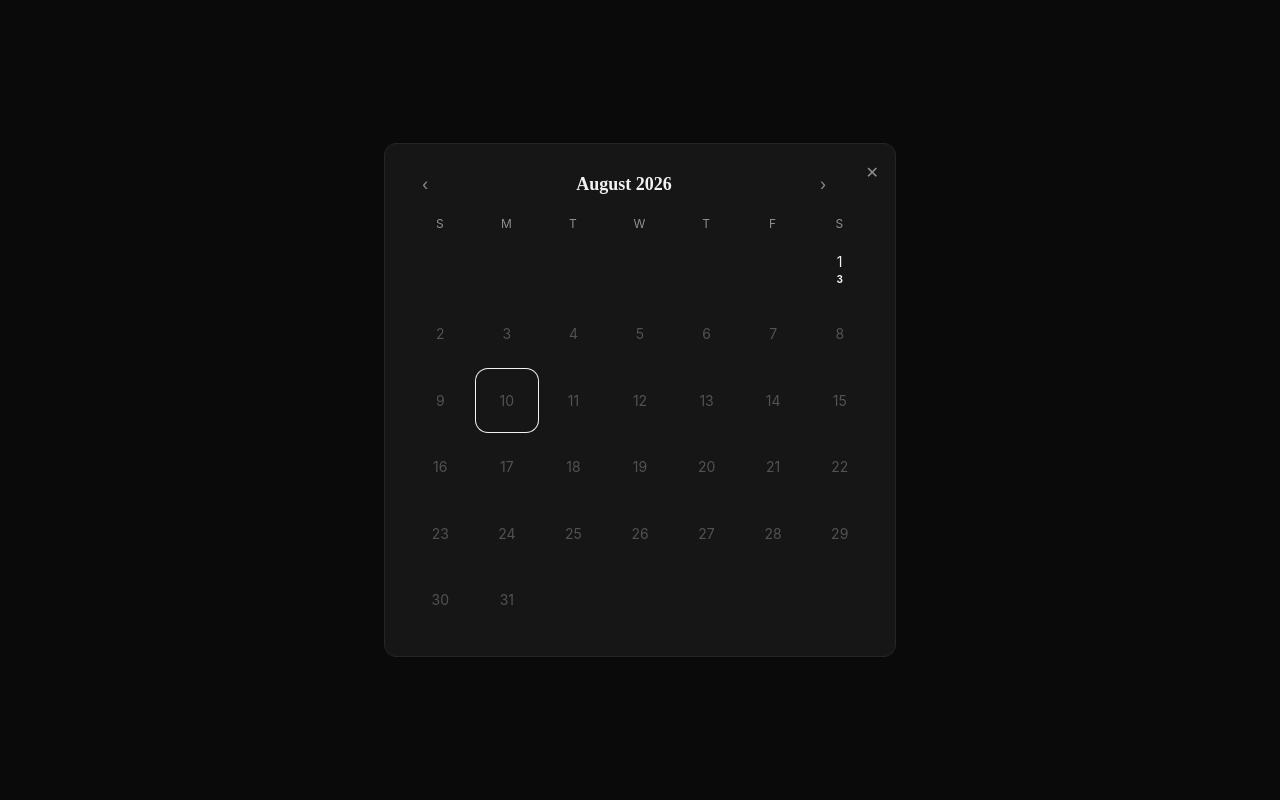
Test: CalendarModal › filters the day by sector, then by company, mutually exclusively
Click the button "1 3": (840, 268) [808,236,871,299]
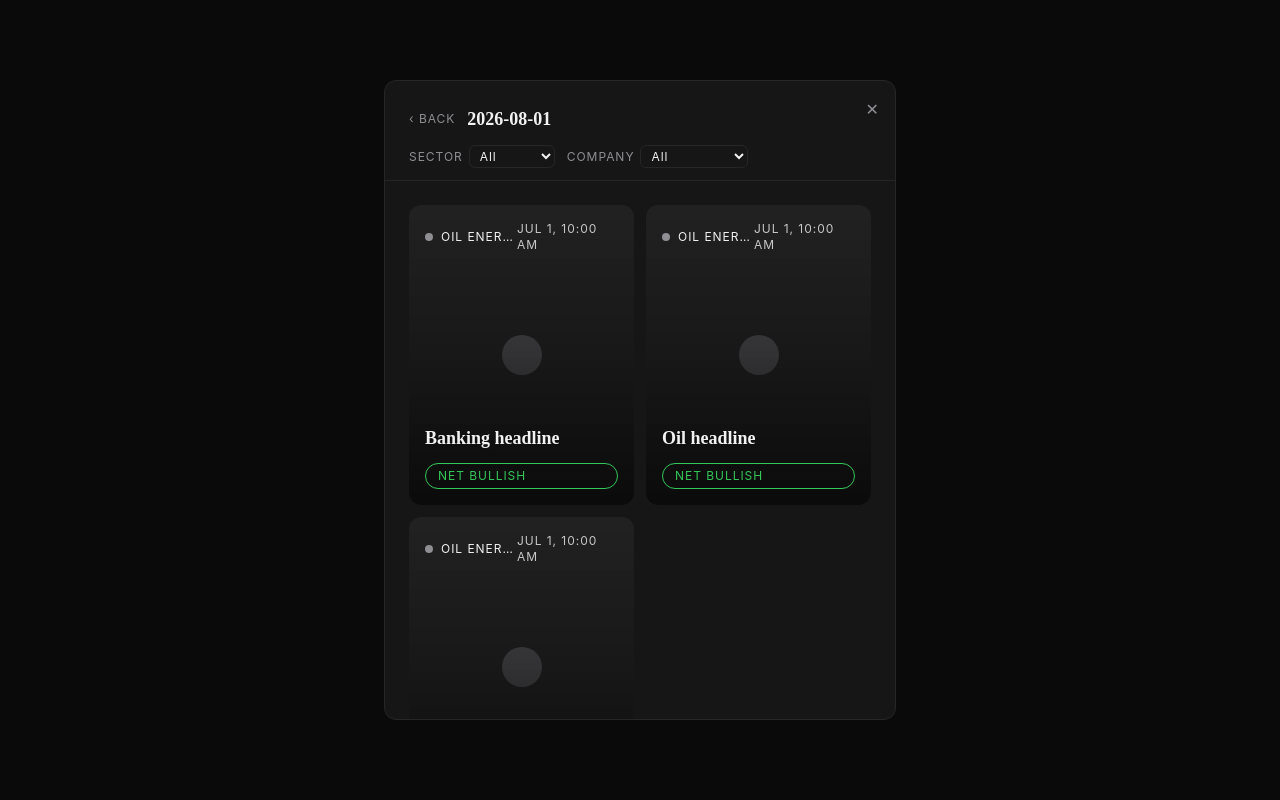
Result: the heading "Banking headline" is shown at [425,428,560,448]
Result: the heading "Oil headline" is shown at [662,428,756,448]
Select "banking" in the dropdown labelled "Sector": (512, 156) [469,145,555,168]
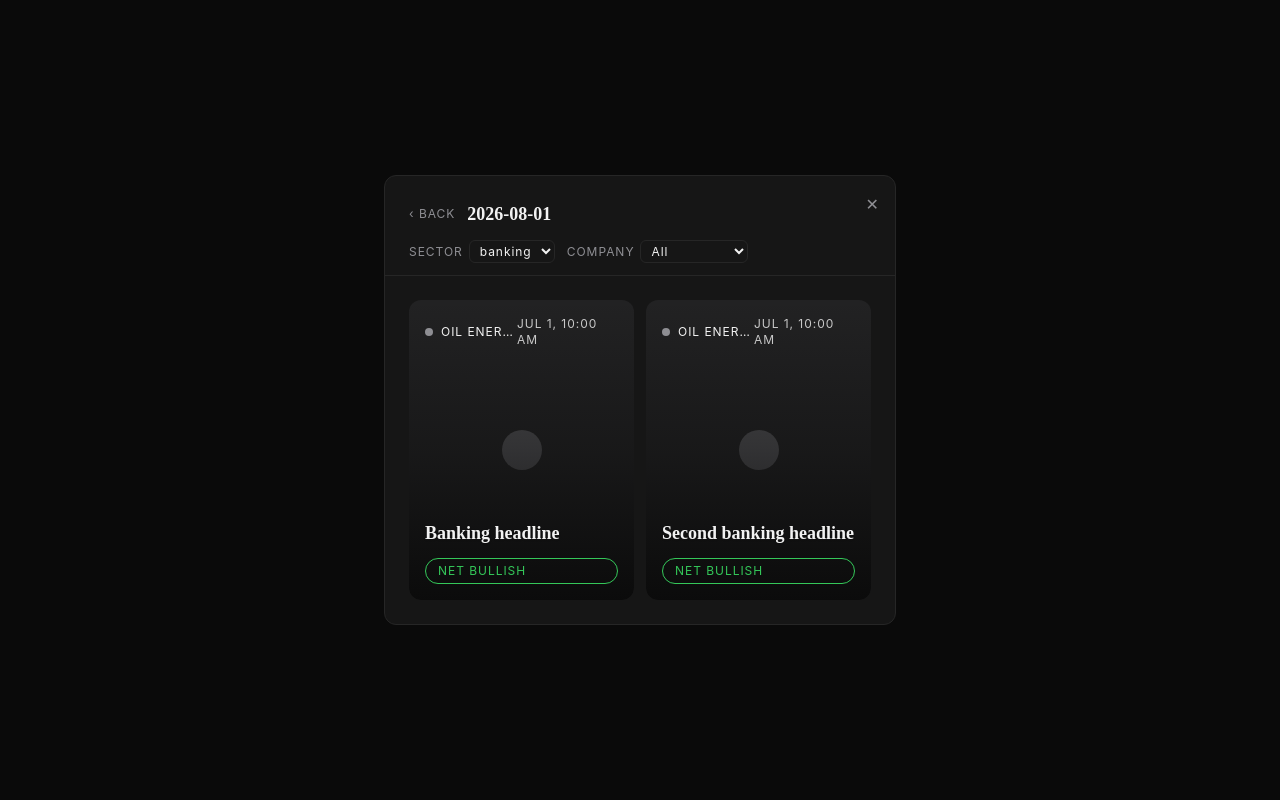
Result: the heading "Banking headline" is shown at [425,523,560,543]
Result: the heading "Second banking headline" is shown at [662,521,855,546]
Result: the button "Oil headline" is gone
Select "Reliance" in the dropdown labelled "Company": (694, 252) [640,240,748,263]
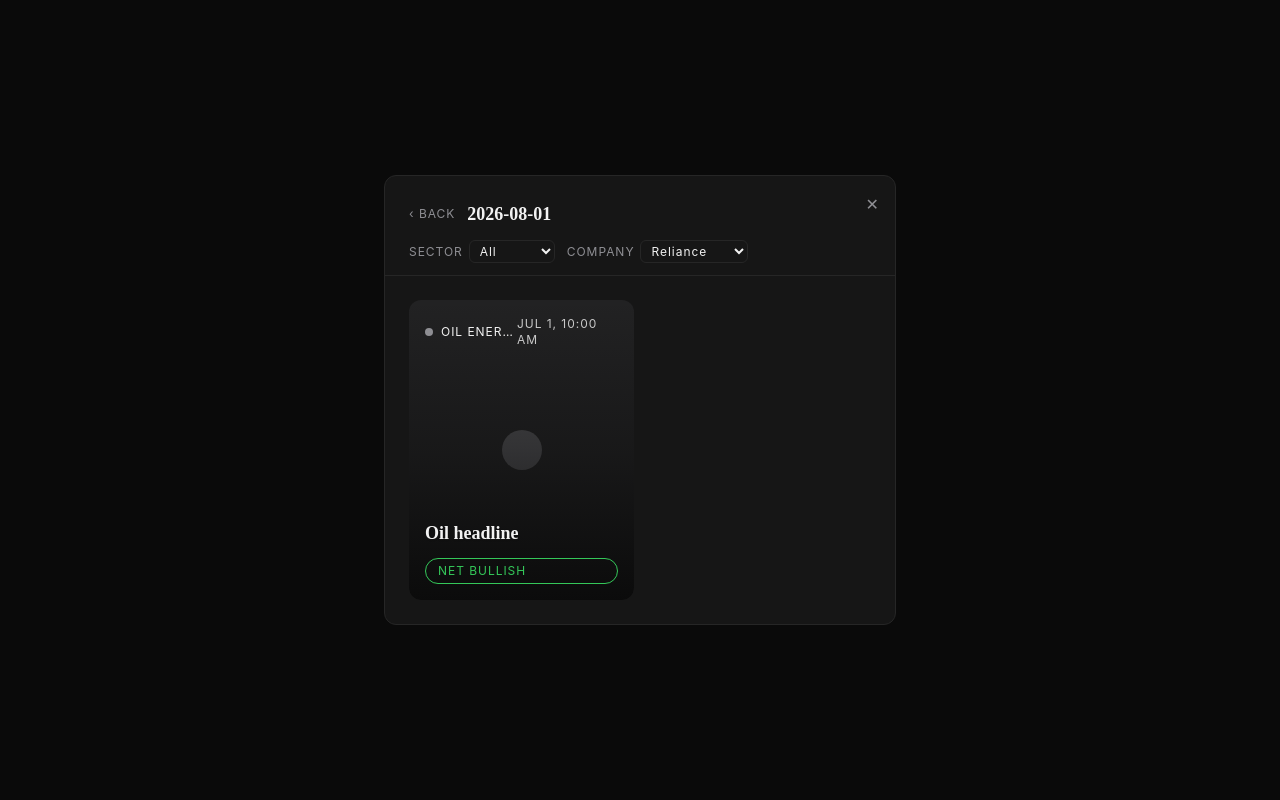
Result: the heading "Oil headline" is shown at [425,523,518,543]
Result: the button "Banking headline" is gone
Result: the button "Second banking headline" is gone
Select "HDFC Bank" in the dropdown labelled "Company": (694, 252) [640,240,748,263]
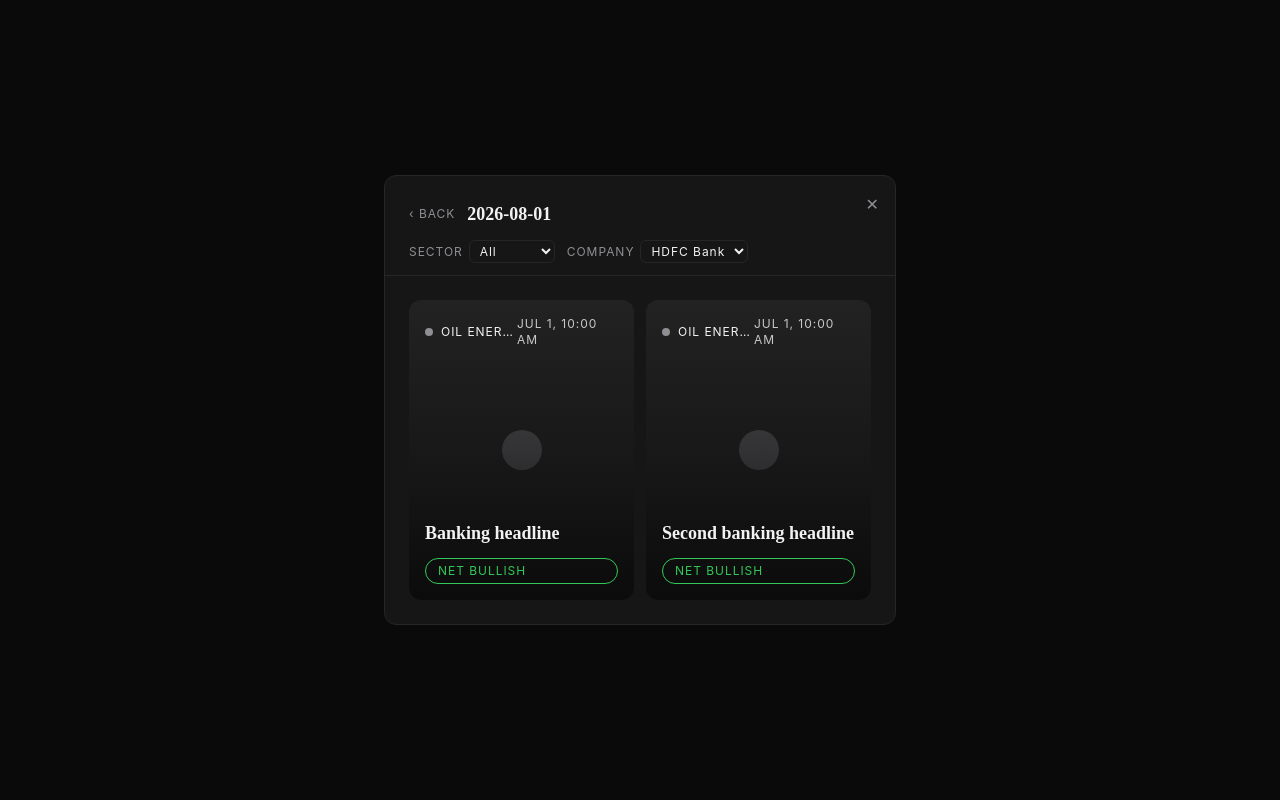
Result: the heading "Banking headline" is shown at [425,523,560,543]
Result: the heading "Second banking headline" is shown at [662,521,855,546]
Result: the button "Oil headline" is gone
